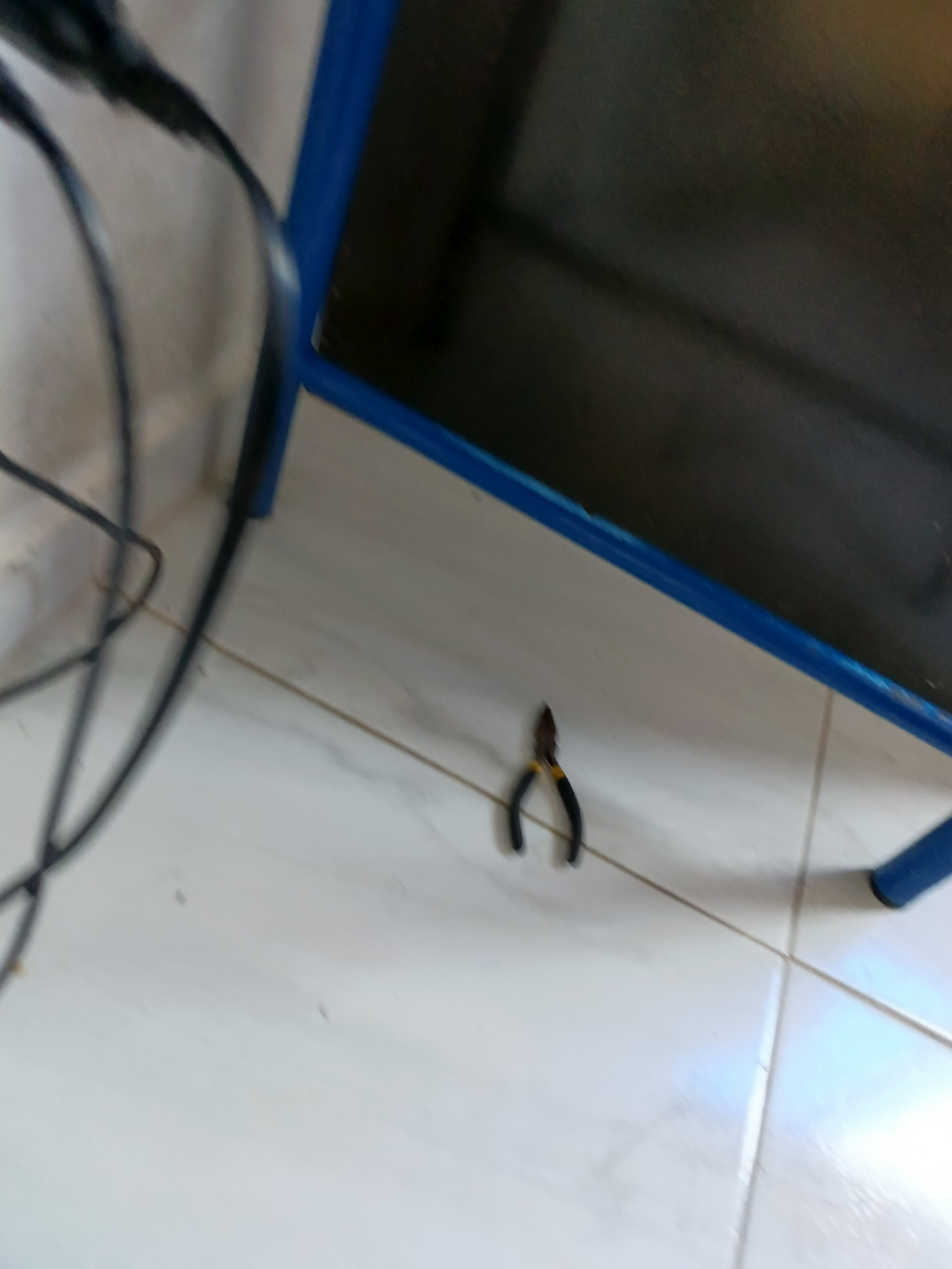Pinzas: (499, 704, 583, 867)
